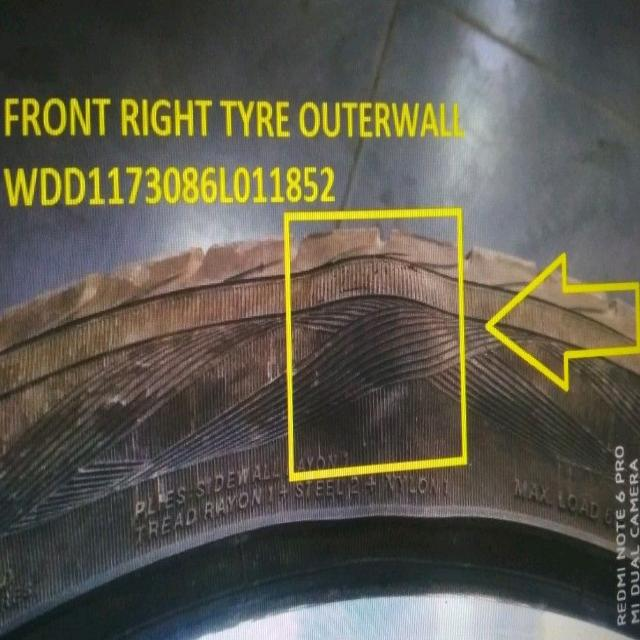Bulge: (299, 205, 444, 392)
